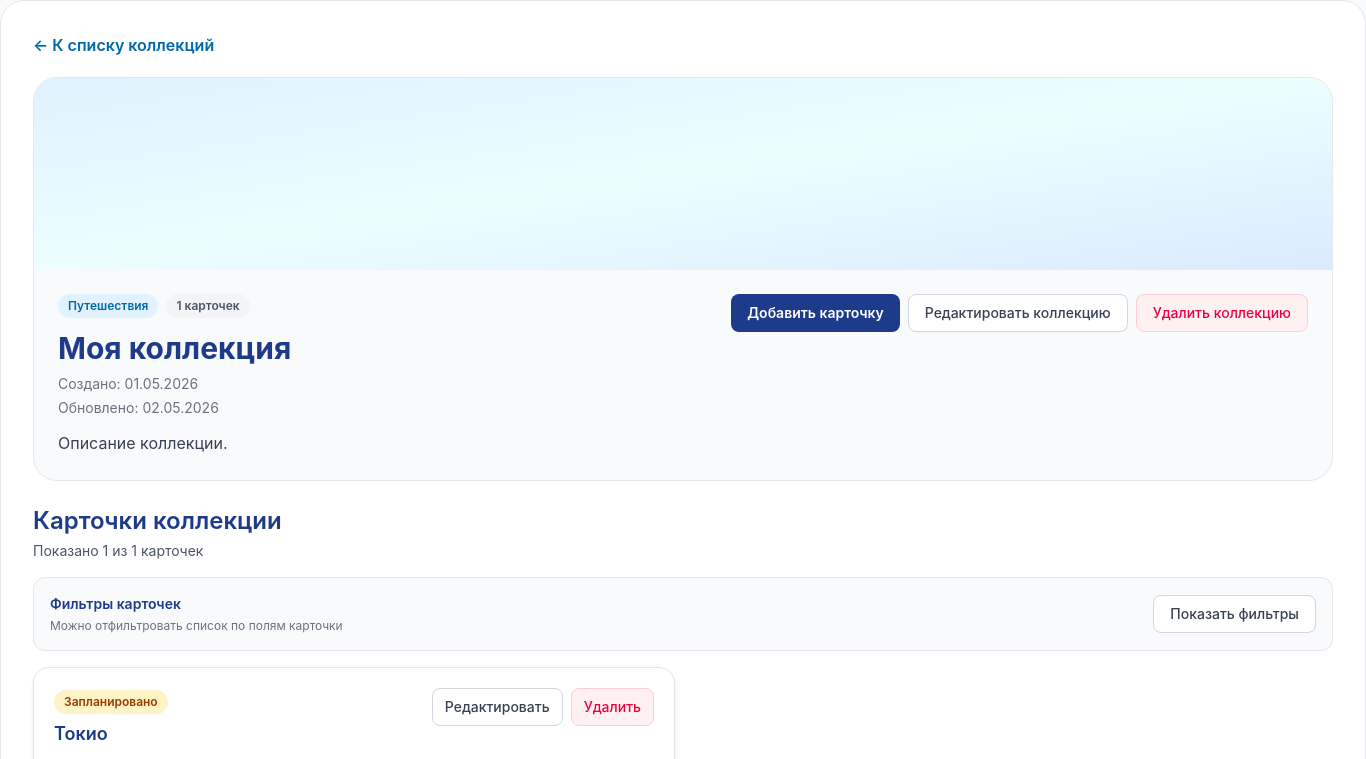
Test case: CollectionDetailPage › shows entry delete error when deletion fails
Expected: the heading "Моя коллекция" is shown, [58,330,291,366]
Click the button "Удалить" at (612, 707), box [571,688,654,726]
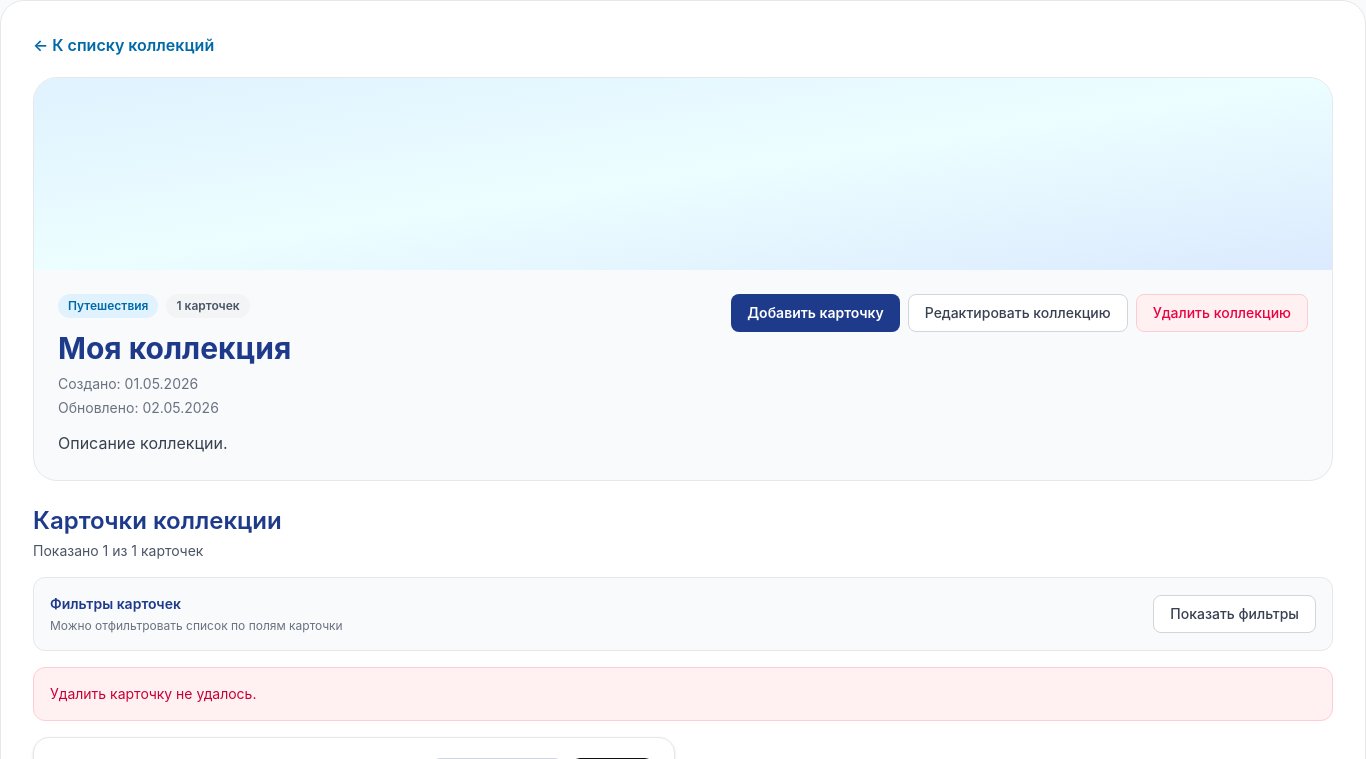
Expected: the text "Удалить карточку не удалось." is shown, [50,685,256,702]
